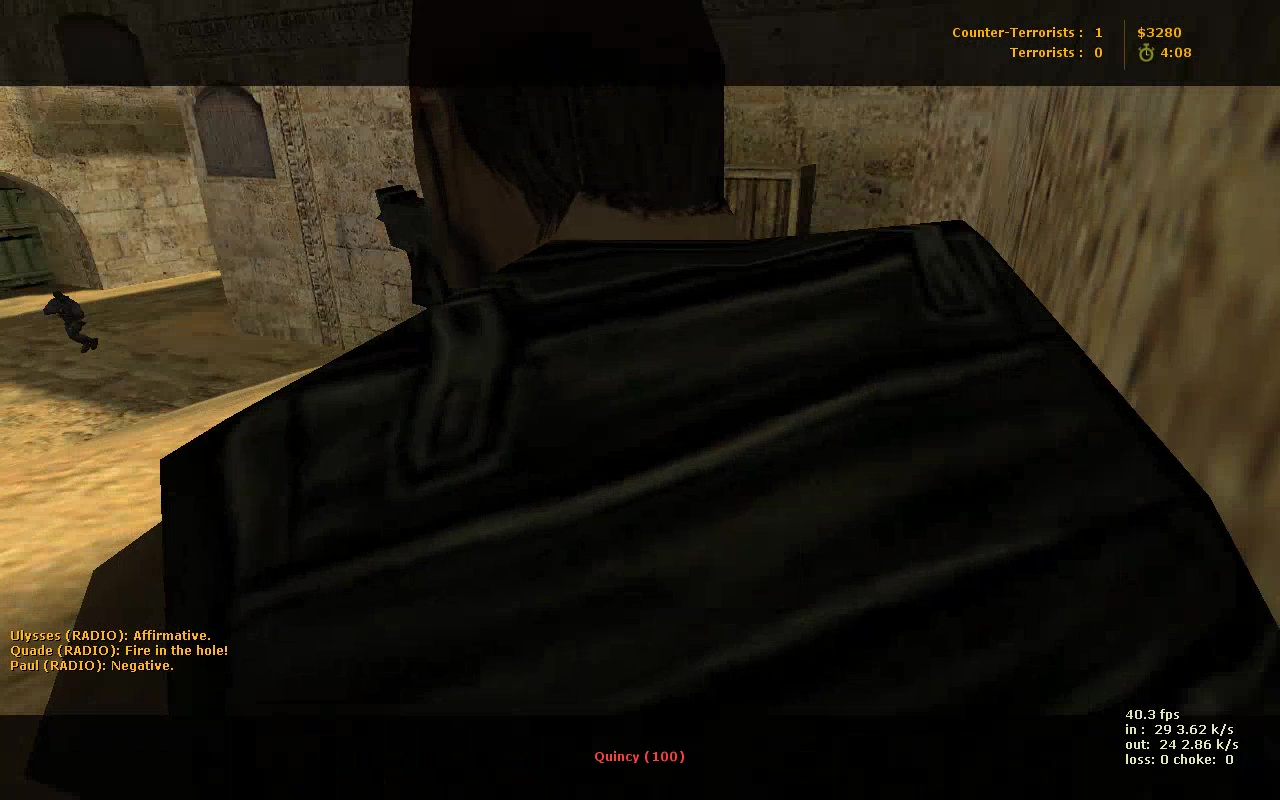ct: (41, 290, 104, 352)
